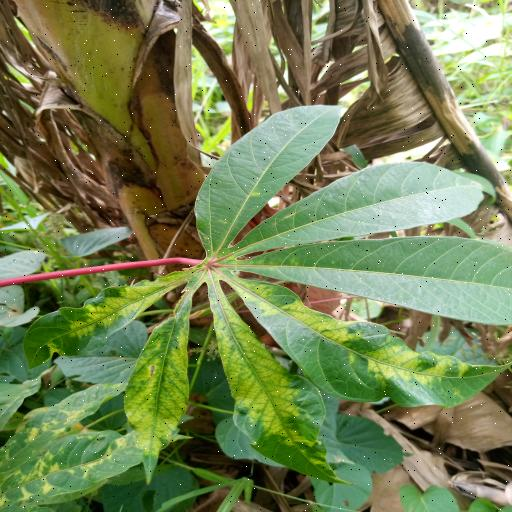Cassava_Mosaic: (2, 106, 512, 478)
